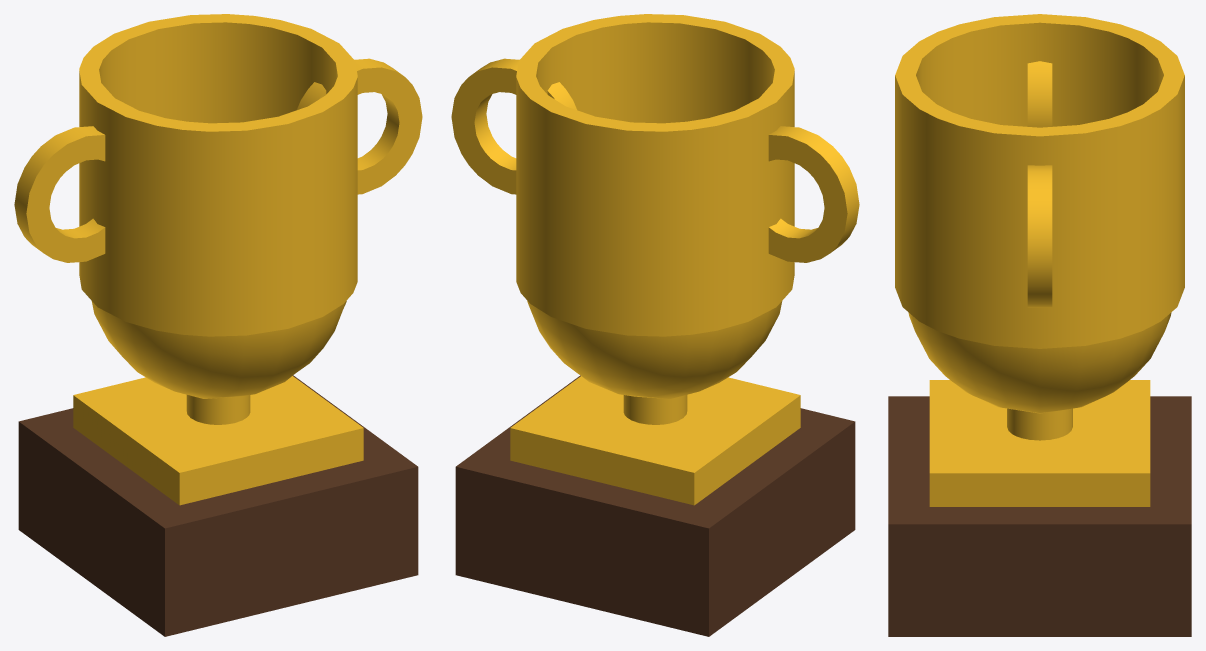
Rendered from trophy.obj.
3 views of the same model, side by side, from view 1: azimuth 30°, elevation 25°; view 2: azimuth 150°, elevation 25°; view 3: azimuth 270°, elevation 25° (orthographic). The views are drawn at different scales.
Parts seen in each view (by area): view 1: Cup, Base, Plinth, CupBottom, HandleL, HandleR, Stem; view 2: Cup, Base, Plinth, CupBottom, HandleL, HandleR, Stem; view 3: Cup, Base, Plinth, CupBottom, HandleR, Stem, HandleL.
Part boxes in pixels (bbox=[...]): Cup: bbox=[79, 14, 357, 336]; Base: bbox=[18, 375, 418, 636]; Plinth: bbox=[73, 376, 363, 505]; CupBottom: bbox=[91, 301, 346, 398]; HandleL: bbox=[14, 126, 105, 262]; HandleR: bbox=[297, 58, 422, 194]; Stem: bbox=[186, 395, 250, 424]; Cup: bbox=[516, 14, 794, 336]; Base: bbox=[455, 375, 855, 636]; Plinth: bbox=[510, 376, 800, 505]; CupBottom: bbox=[527, 301, 782, 398]; HandleL: bbox=[768, 126, 859, 262]; HandleR: bbox=[451, 58, 576, 194]; Stem: bbox=[623, 395, 687, 424]; Cup: bbox=[895, 14, 1184, 348]; Base: bbox=[888, 396, 1191, 636]; Plinth: bbox=[929, 380, 1150, 506]; CupBottom: bbox=[908, 312, 1171, 413]; HandleR: bbox=[1027, 165, 1052, 307]; Stem: bbox=[1007, 408, 1072, 440]; HandleL: bbox=[1027, 61, 1052, 127].
Size of the model in its own units: 1.72 by 1.99 by 1.1.
